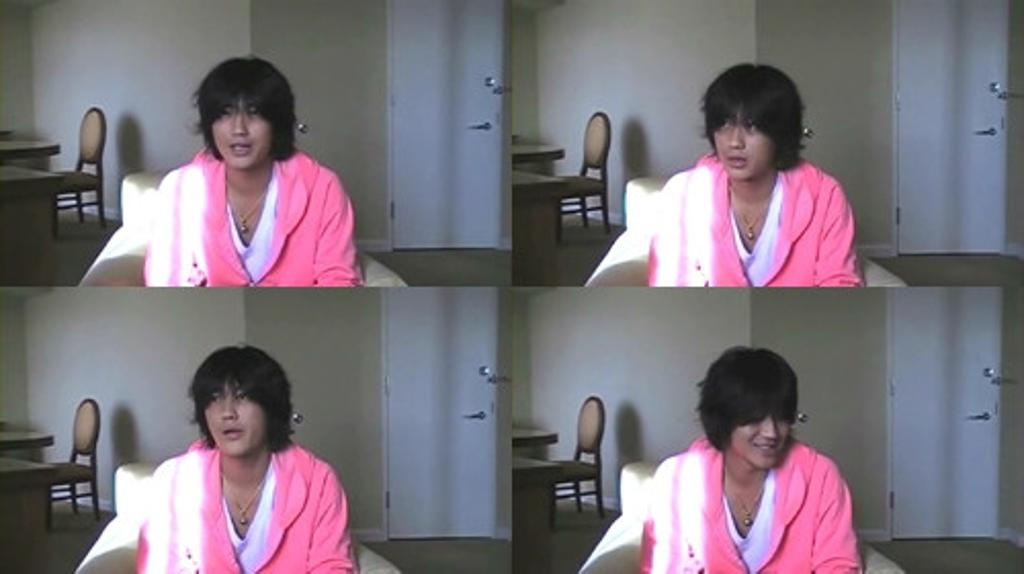face: (712, 98, 778, 180), (204, 366, 264, 454), (216, 88, 276, 168), (736, 386, 790, 458)
